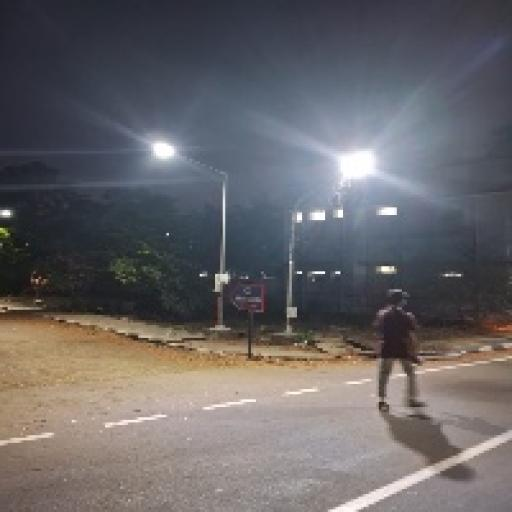Working: (147, 139, 180, 162)
